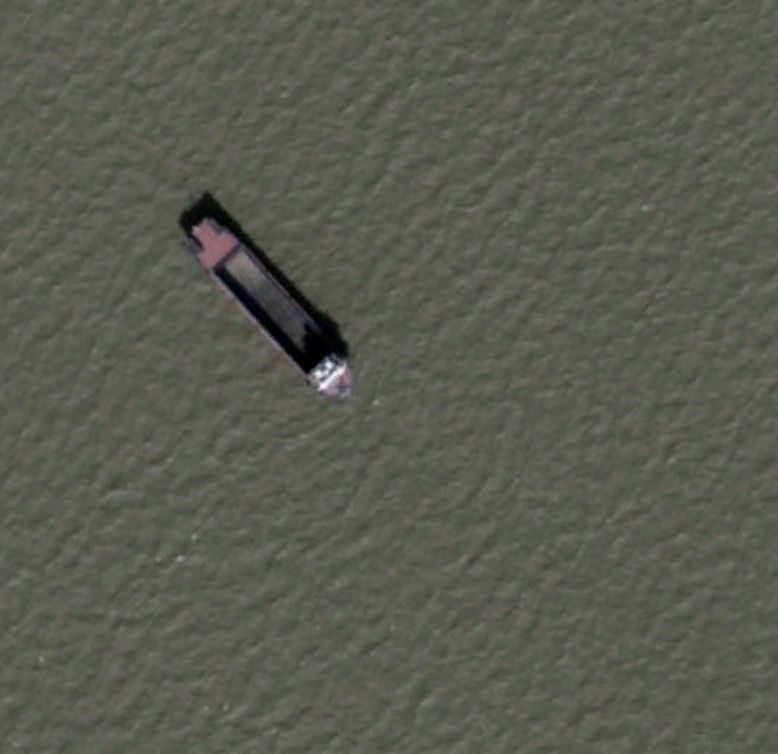boat: (177, 195, 359, 402)
